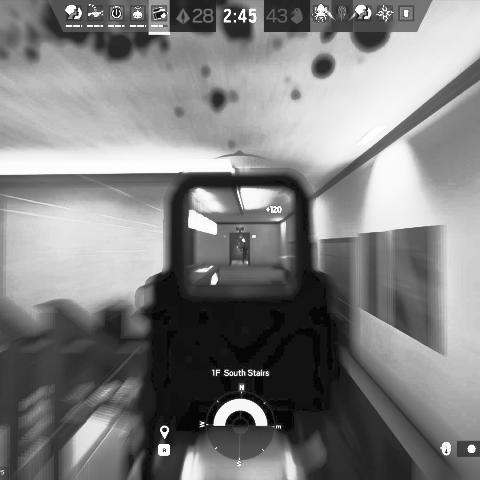Character: (241, 241, 248, 266)
Head: (243, 243, 246, 246)
